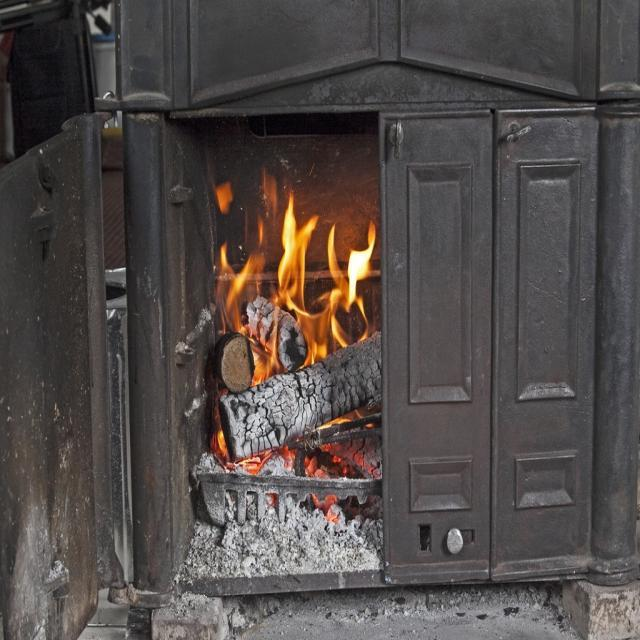Fire: (212, 168, 377, 386), (216, 408, 376, 478)
